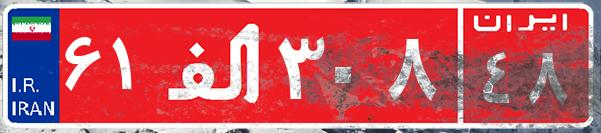0: (330, 28, 385, 110)
1: (110, 28, 158, 105)
3: (273, 28, 330, 110)
4: (475, 38, 525, 113)
6: (57, 26, 110, 107)
8: (385, 28, 445, 110), (525, 38, 570, 115)
الف: (158, 15, 273, 115)
